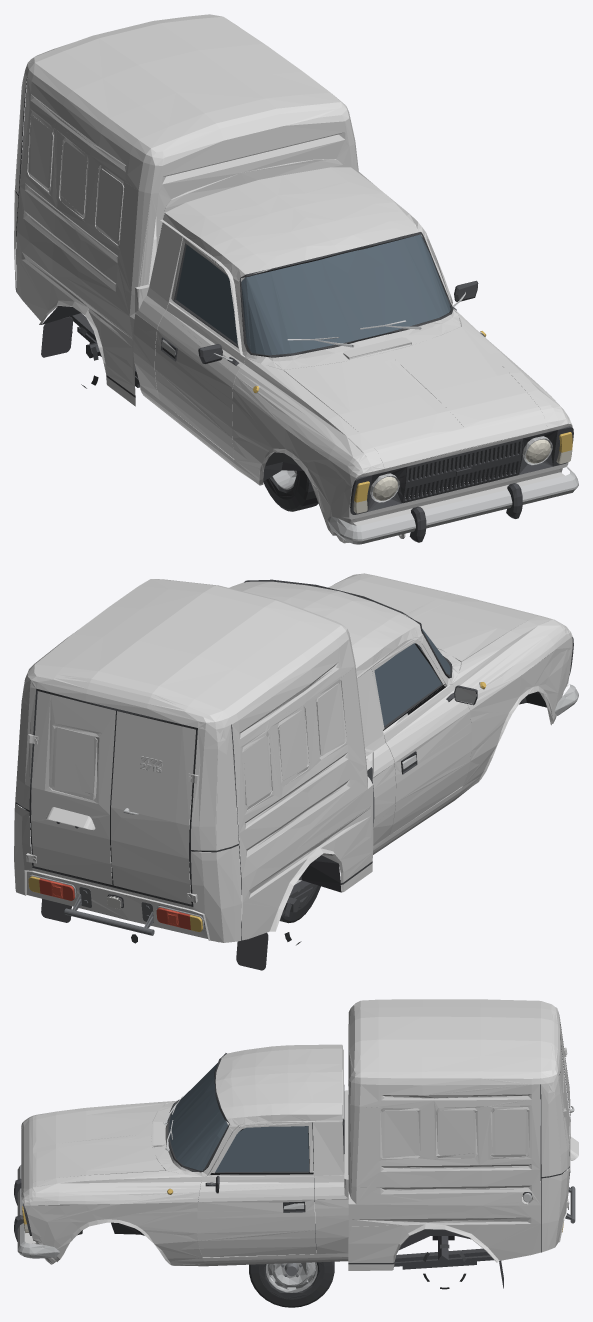
Rendered from kabluk.glb.
The picture shows the model from 3 angles, top to bottom: view 1: azimuth 30°, elevation 25°; view 2: azimuth 150°, elevation 25°; view 3: azimuth 270°, elevation 25°; orthographic projection. The views are drawn at different scales.
Visible parts, largest first — view 1: paint, detail, lo-paint, lo-detail, lights, wheel; view 2: paint, lo-paint, detail, lights, lo-detail; view 3: paint, lo-paint, detail, lo-detail, wheel, lo-wheel.
Boxes of the visible parts, x1,y1,x2,y2 form: paint: (14,14,572,542); detail: (15,77,578,544); lo-paint: (15,23,572,543); lo-detail: (43,234,574,539); lights: (253,331,572,513); wheel: (263,470,318,511); paint: (14,573,572,942); lo-paint: (15,574,572,938); detail: (15,579,578,970); lights: (28,665,571,931); lo-detail: (41,639,574,966); paint: (21,999,578,1270); lo-paint: (21,1014,577,1265); detail: (14,1022,575,1289); lo-detail: (15,1063,573,1285); wheel: (249,1261,334,1307); lo-wheel: (255,1262,323,1298).
Bounding box in the file's own units: 1.83 × 2.25 × 4.17.
